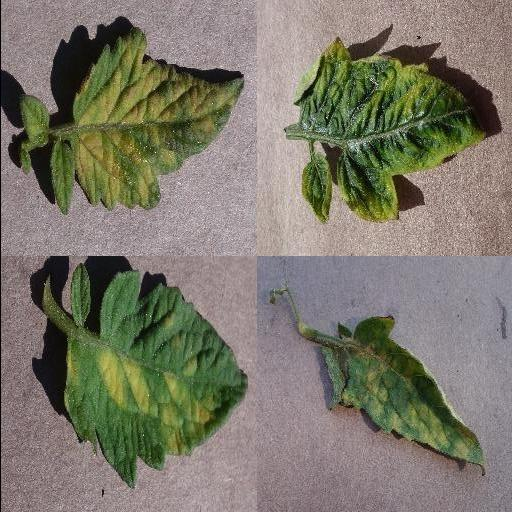Leaf Mold: (63, 272, 249, 490), (48, 27, 246, 217), (320, 317, 486, 477)
Yellow Leaf Curl Virus: (292, 38, 488, 226)
